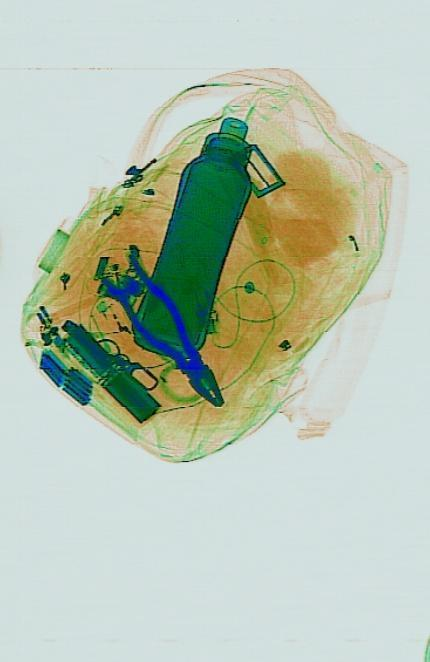Pliers: (96, 237, 236, 426)
